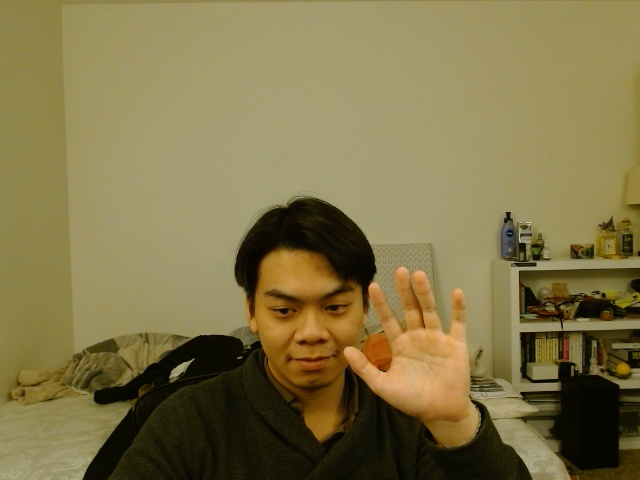Hello: (342, 264, 483, 419)
